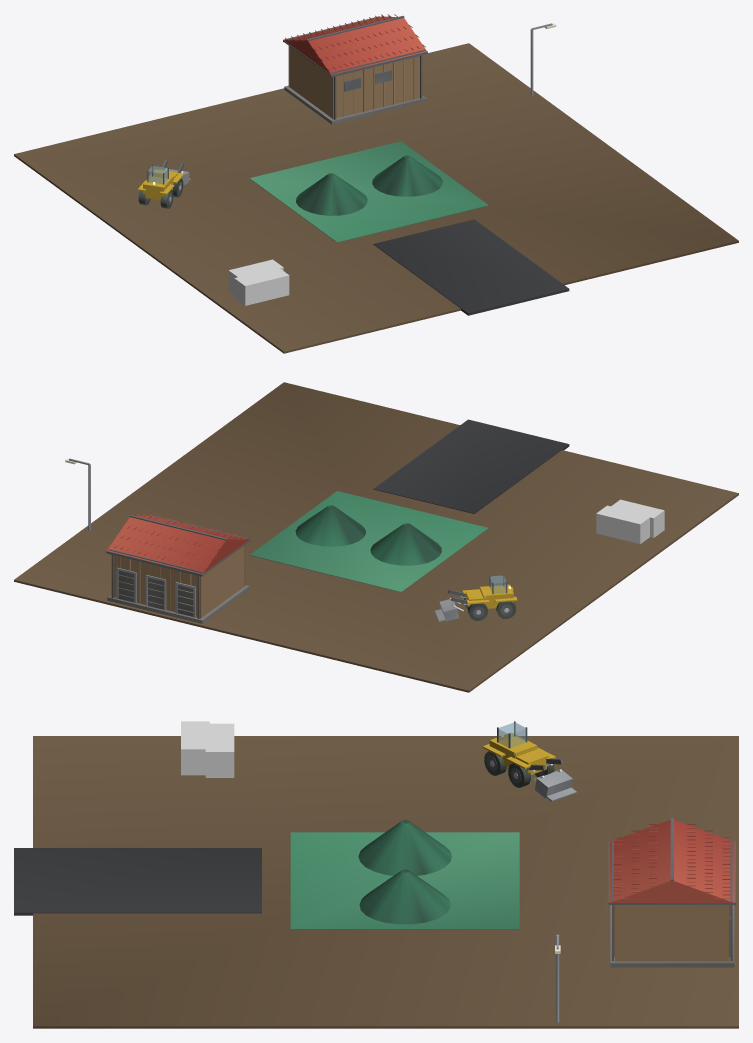
Rendered from Depot_P1.fbx.
3 views of the same model, one above another, from view 1: azimuth 30°, elevation 25°; view 2: azimuth 150°, elevation 25°; view 3: azimuth 270°, elevation 25° (orthographic). The views are drawn at different scales.
Parts seen in each view (by area): view 1: Depot.Yard, Depot.Shed1, Depot.Containers, Depot.Pile0, Depot.Pile1, Depot.Loader; view 2: Depot.Yard, Depot.Shed1, Depot.Containers, Depot.Loader, Depot.Pile0, Depot.Pile1; view 3: Depot.Yard, Depot.Shed1, Depot.Loader, Depot.Pile0, Depot.Pile1, Depot.Containers.
Part boxes in pixels (box(x1,y1,x2,y2)): Depot.Yard: box(14, 43, 738, 353); Depot.Shed1: box(283, 14, 427, 124); Depot.Containers: box(228, 259, 289, 305); Depot.Pile0: box(296, 173, 367, 215); Depot.Pile1: box(372, 155, 442, 196); Depot.Loader: box(137, 159, 190, 208); Depot.Yard: box(14, 382, 738, 692); Depot.Shed1: box(106, 513, 250, 623); Depot.Containers: box(596, 499, 664, 543); Depot.Loader: box(435, 574, 517, 621); Depot.Pile0: box(370, 523, 441, 565); Depot.Pile1: box(295, 505, 365, 546); Depot.Yard: box(14, 736, 738, 1028); Depot.Shed1: box(608, 818, 735, 967); Depot.Loader: box(482, 721, 576, 801); Depot.Pile0: box(358, 820, 451, 875); Depot.Pile1: box(359, 869, 450, 924); Depot.Containers: box(181, 721, 234, 777).
Size of the model in its own units: 7469 by 1055 by 7600.
